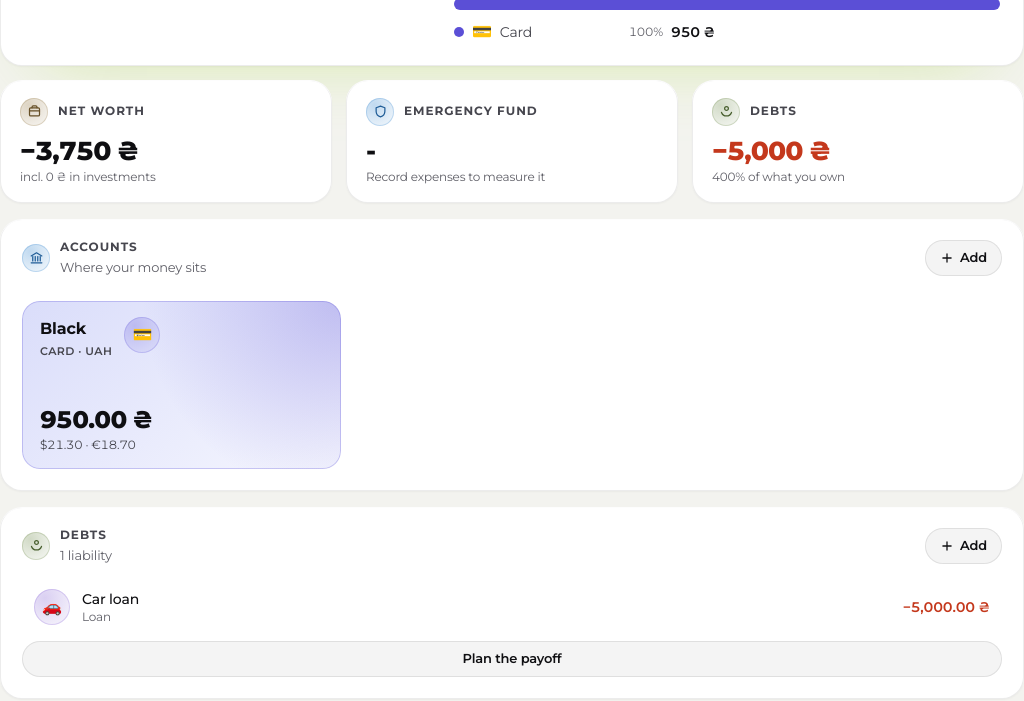
it: AccountsPage › reconciles an account from its sheet
(page scrolled)
Click the button "Black Card · UAH 💳 950.00 ₴ $21.30 · €18.70". click: (63, 328)
box: [22,301,341,468]
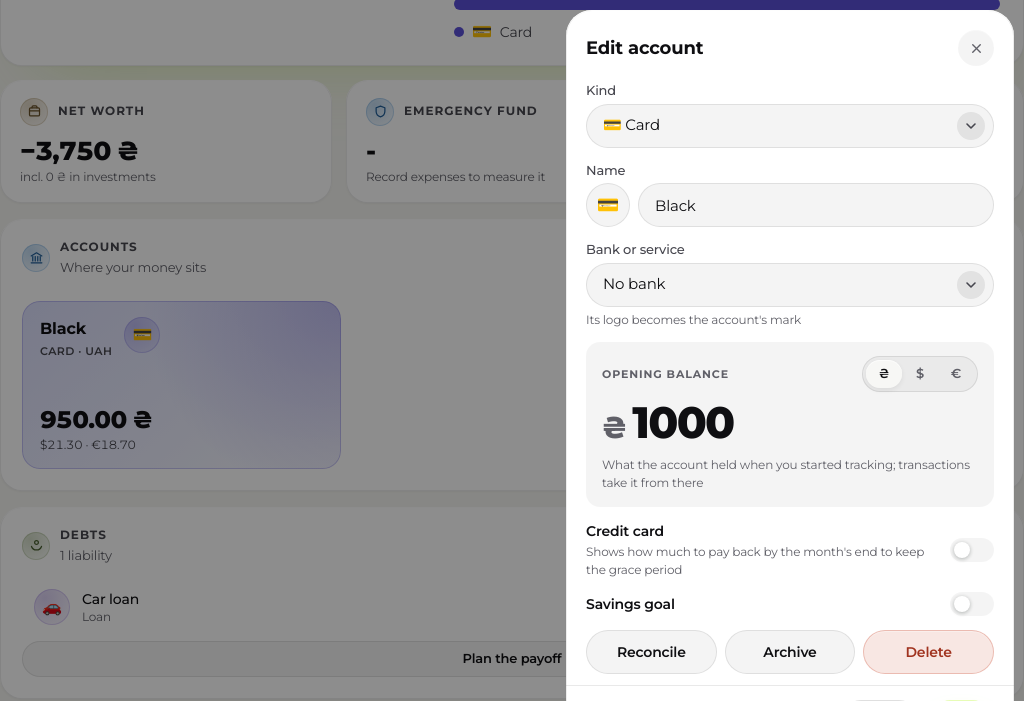
Click the button "Reconcile". click: (651, 652)
box: [586,630,717,674]
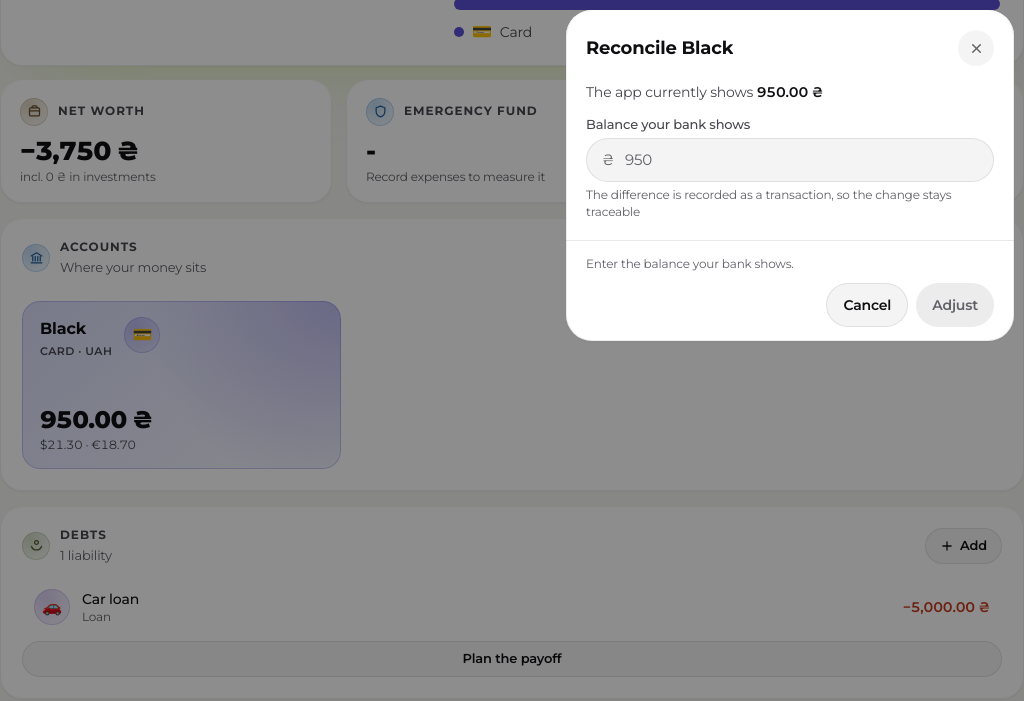
Click the button "Cancel". click: (867, 305)
box: [826,283,908,327]
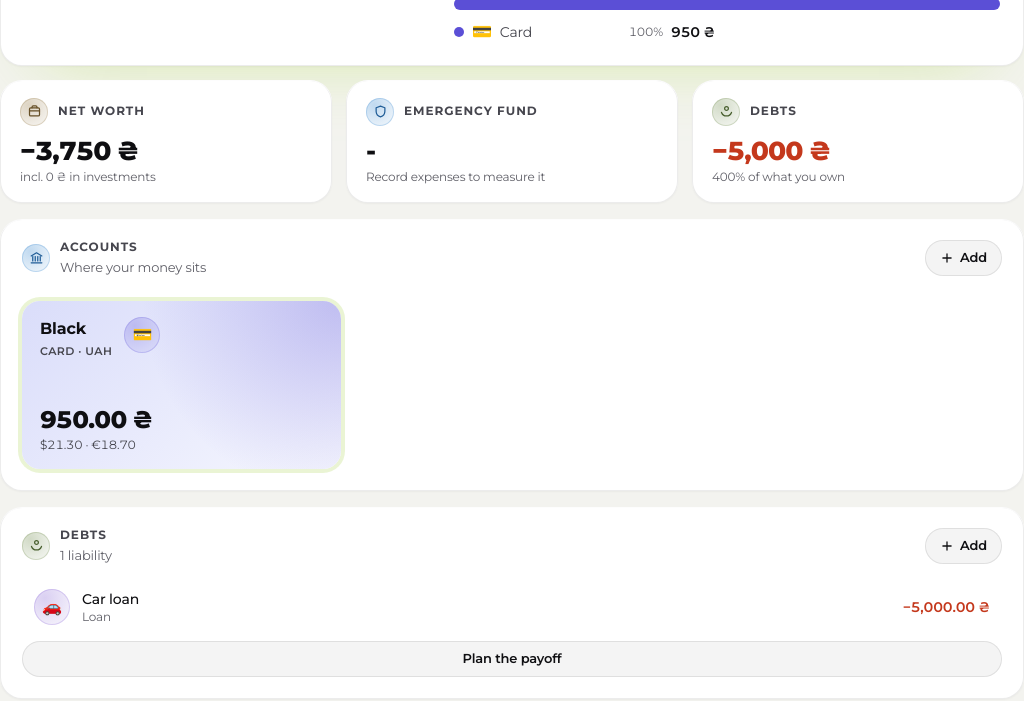
Check: the dialog is gone
